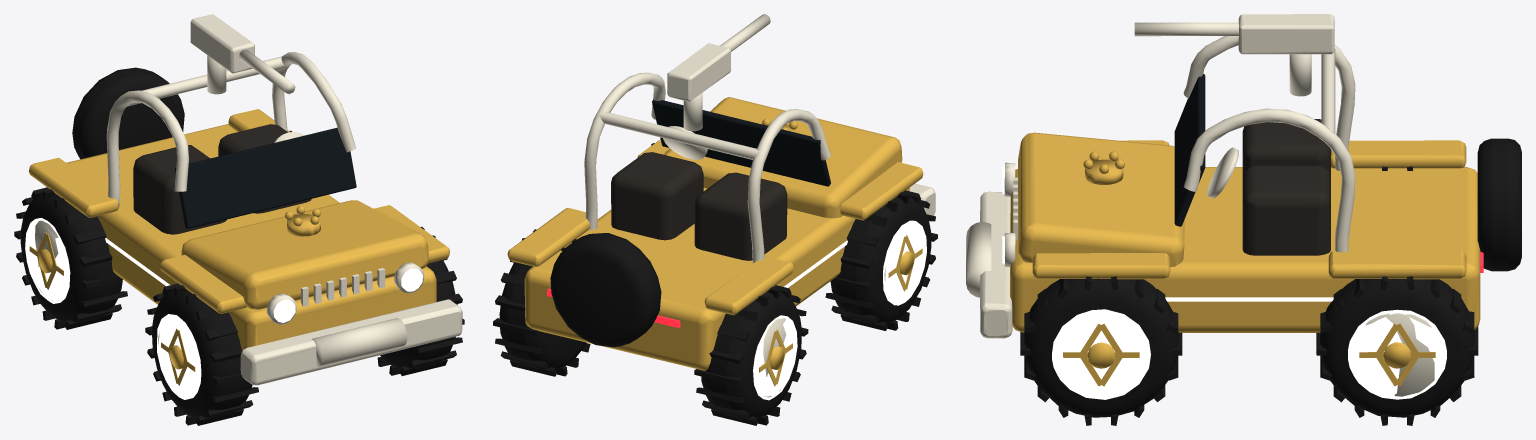
Rendered from jeep_guld.glb.
3 views of the same model, side by side, from view 1: azimuth 30°, elevation 25°; view 2: azimuth 150°, elevation 25°; view 3: azimuth 270°, elevation 25° (orthographic). The views are drawn at different scales.
Parts seen in each view (by area): view 1: krop_net; view 2: krop_net; view 3: krop_net.
Boxes of the visible parts, x1=… form: krop_net: x1=14, y1=14, x2=464, y2=425; krop_net: x1=493, y1=14, x2=937, y2=425; krop_net: x1=966, y1=14, x2=1521, y2=425.
Bounding box in the file's own units: 1.04 × 1.15 × 1.71.
